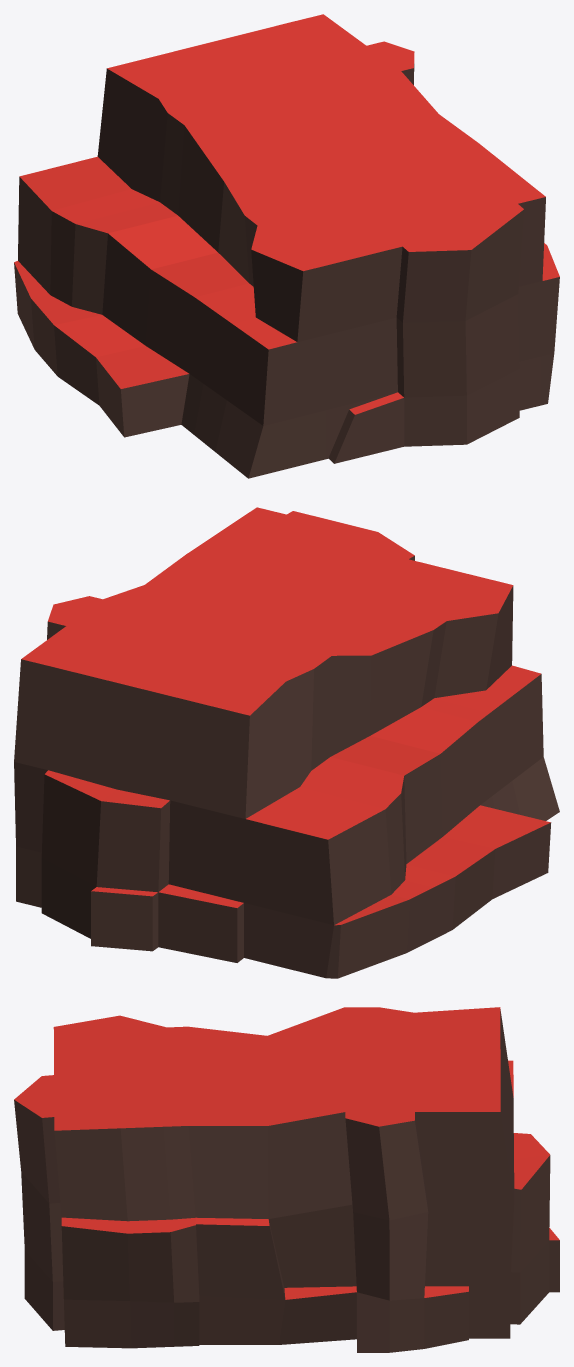
Rendered from Falaise_01.fbx.
3 renders of one model, top to bottom at view 1: azimuth 30°, elevation 25°; view 2: azimuth 150°, elevation 25°; view 3: azimuth 270°, elevation 25°, orthographic. The views are drawn at different scales.
Parts seen in each view (by area): view 1: Cliff_01; view 2: Cliff_01; view 3: Cliff_01.
Part boxes in pixels (x1=…): Cliff_01: x1=14, y1=14, x2=559, y2=478; Cliff_01: x1=14, y1=507, x2=559, y2=978; Cliff_01: x1=14, y1=1007, x2=559, y2=1352.
Size of the model in its own units: 1335 by 763 by 1618.
